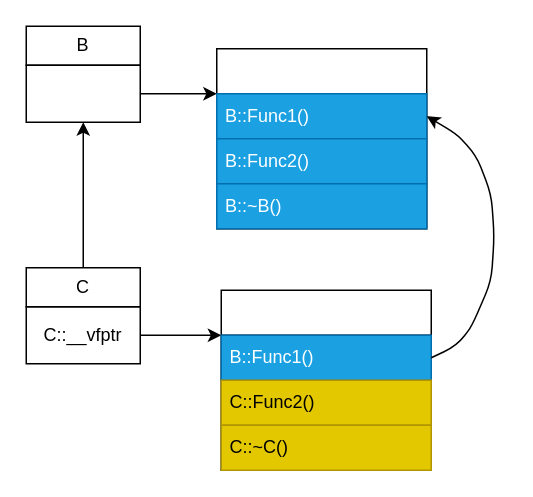
This 533x497 diagram has some shape labels left out. Here are the shapes that lost their labels. From the top down, the box of each, then its label:
(25, 64, 140, 122): B::__vfptr
(215, 47, 427, 229): B类虚函数表vtable
(220, 289, 431, 470): C类虚函数表vtable
